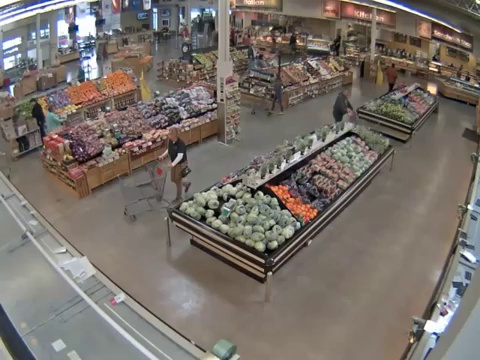face: (168, 131, 176, 140), (344, 89, 350, 95)
